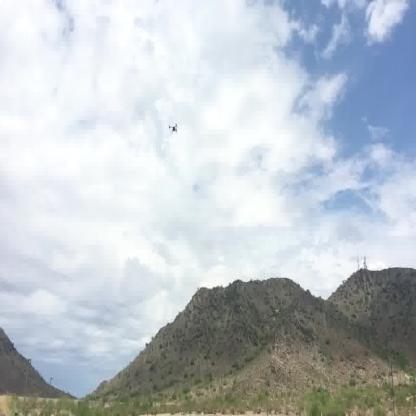drone: (167, 122, 179, 135)
